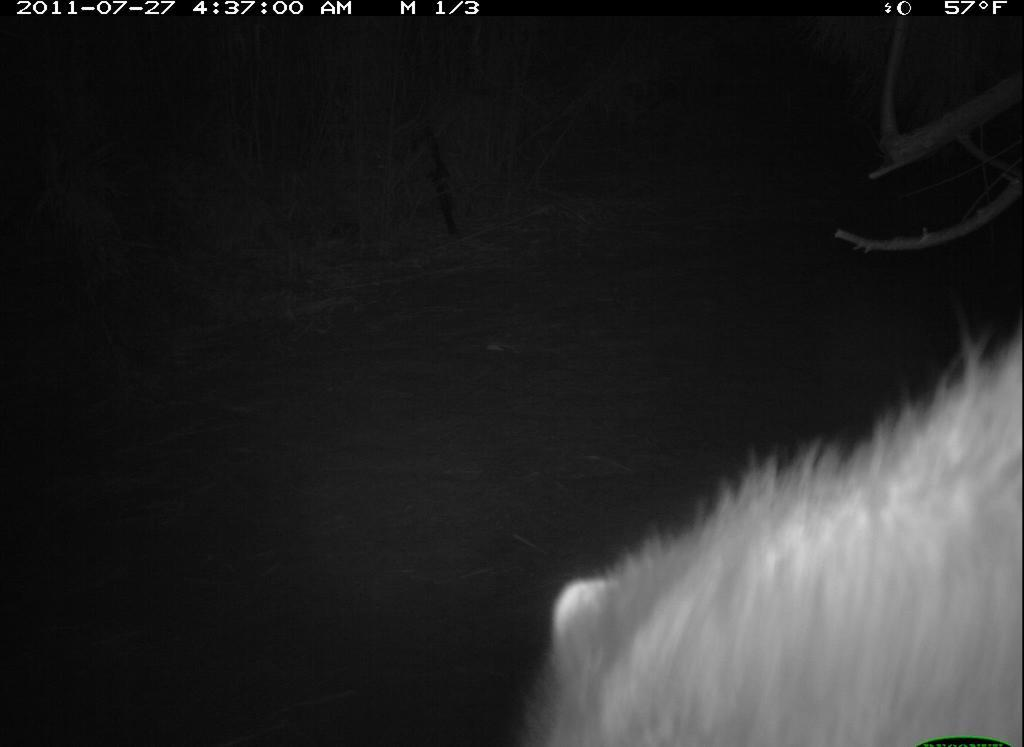raccoon: (519, 321, 1023, 747)
